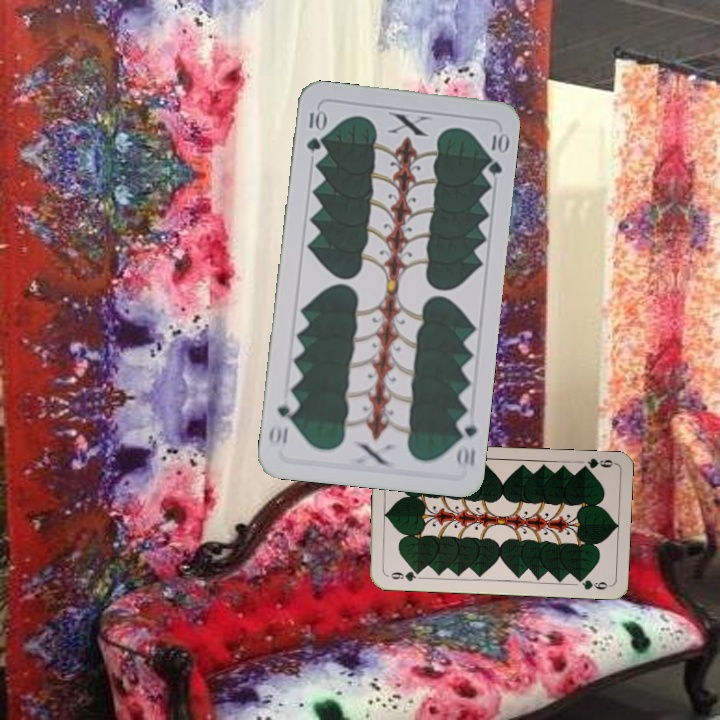G10: (452, 411, 480, 472), (302, 105, 326, 154)
G9: (576, 454, 617, 473), (383, 567, 424, 584)
